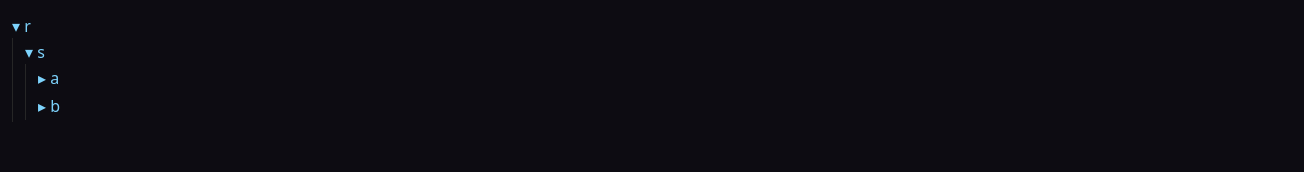
Scenario: JsonTree › toggling a branch › expands only the clicked branch below the default depth
The width and height of the screenshot is (1304, 172).
Expected: the text "p:" is not shown
Click the button "▸ a" at {"x": 49, "y": 78}, box [38,66,59,90]
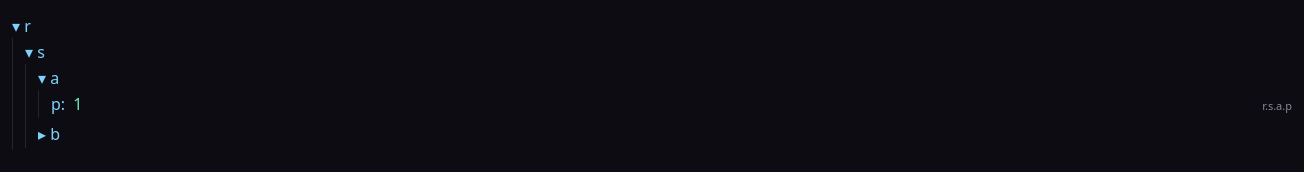
Expected: the text "p:" is shown, [51,92,65,116]
